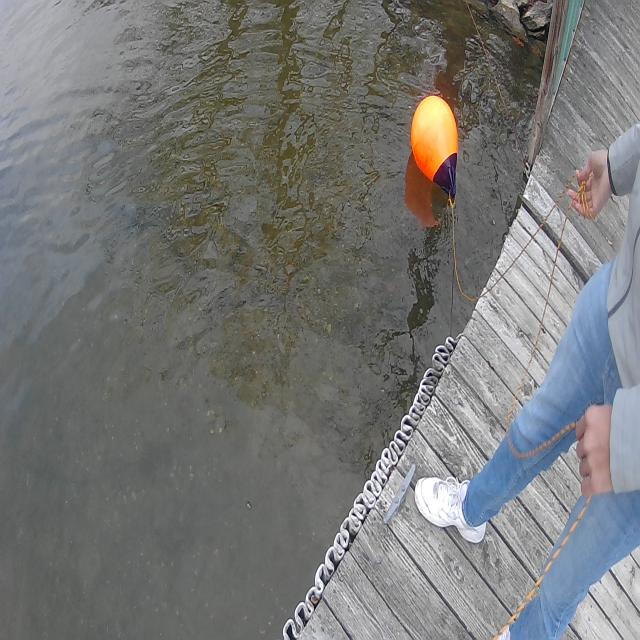Buoy: (405, 80, 468, 213)
